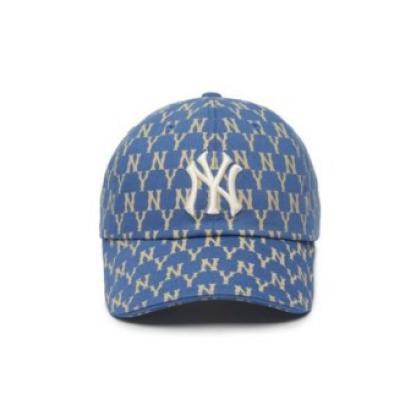cap: (82, 76, 339, 341)
